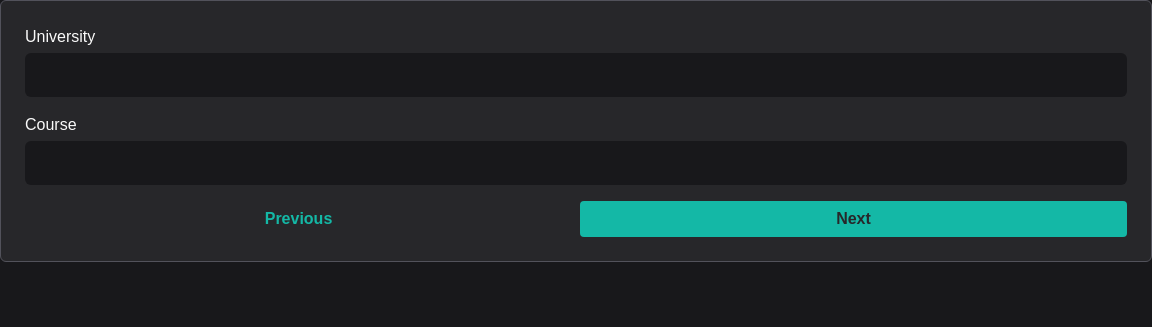
Test: Education Form › should show error messages when fields does not matches with the validation schema
This screenshot has width=1152, height=327.
Click the button "Next". click: (854, 219)
box: [580, 201, 1127, 237]
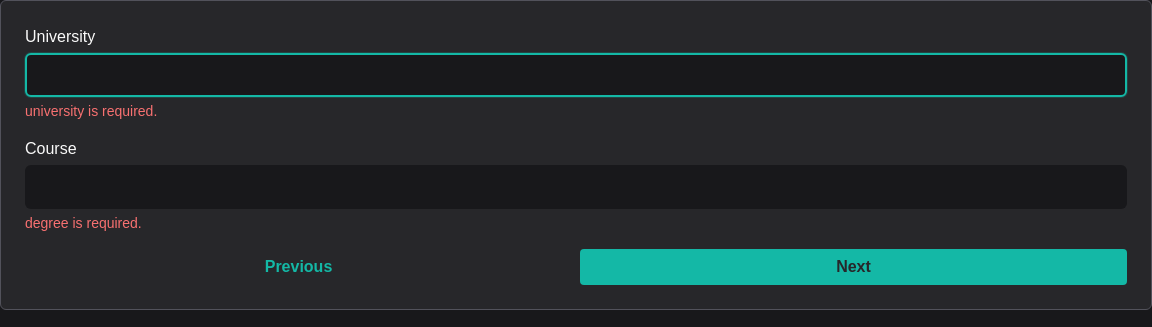
Now the text "university is required." is shown, box [25, 103, 157, 119]
Now the text "degree is required." is shown, box [25, 215, 142, 231]
